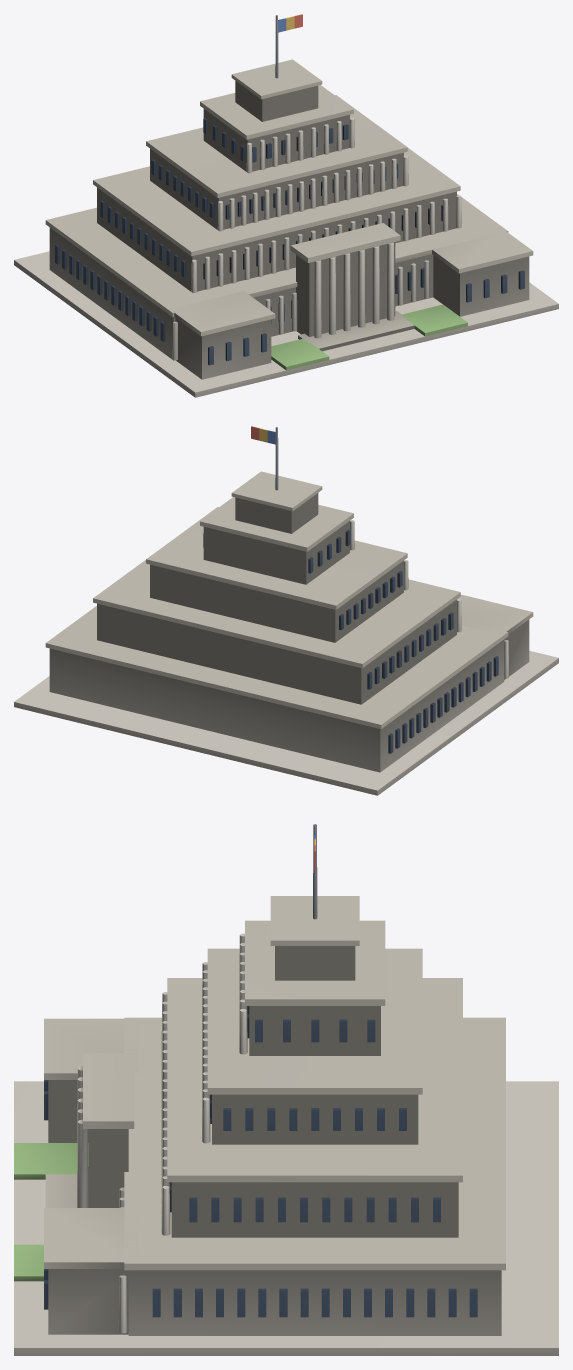
The model's file is bucharest.glb.
The picture shows the model from 3 angles, top to bottom: view 1: azimuth 30°, elevation 25°; view 2: azimuth 150°, elevation 25°; view 3: azimuth 270°, elevation 25°; orthographic projection. The views are drawn at different scales.
Visible parts, largest first — view 1: bucharest_stoneLight, bucharest_stoneGray, bucharest_plaster, bucharest_window, bucharest_grass; view 2: bucharest_stoneLight, bucharest_stoneGray, bucharest_window, bucharest_plaster; view 3: bucharest_stoneGray, bucharest_stoneLight, bucharest_window, bucharest_plaster, bucharest_grass.
Part boxes in pixels (x1,y1,x2,y2): bucharest_stoneLight: (14, 81, 558, 397); bucharest_stoneGray: (45, 59, 533, 351); bucharest_plaster: (172, 118, 461, 360); bucharest_window: (55, 118, 524, 365); bucharest_grass: (271, 304, 467, 370); bucharest_stoneLight: (14, 493, 558, 795); bucharest_stoneGray: (45, 471, 533, 728); bucharest_window: (203, 530, 498, 753); bucharest_plaster: (350, 520, 508, 678); bucharest_stoneGray: (44, 896, 505, 1270); bucharest_stoneLight: (14, 946, 558, 1355); bucharest_window: (44, 1006, 477, 1317); bucharest_plaster: (77, 933, 247, 1333); bucharest_grass: (14, 1143, 88, 1281).
Bounding box in the file's own units: 2.2 × 1.53 × 1.9.
